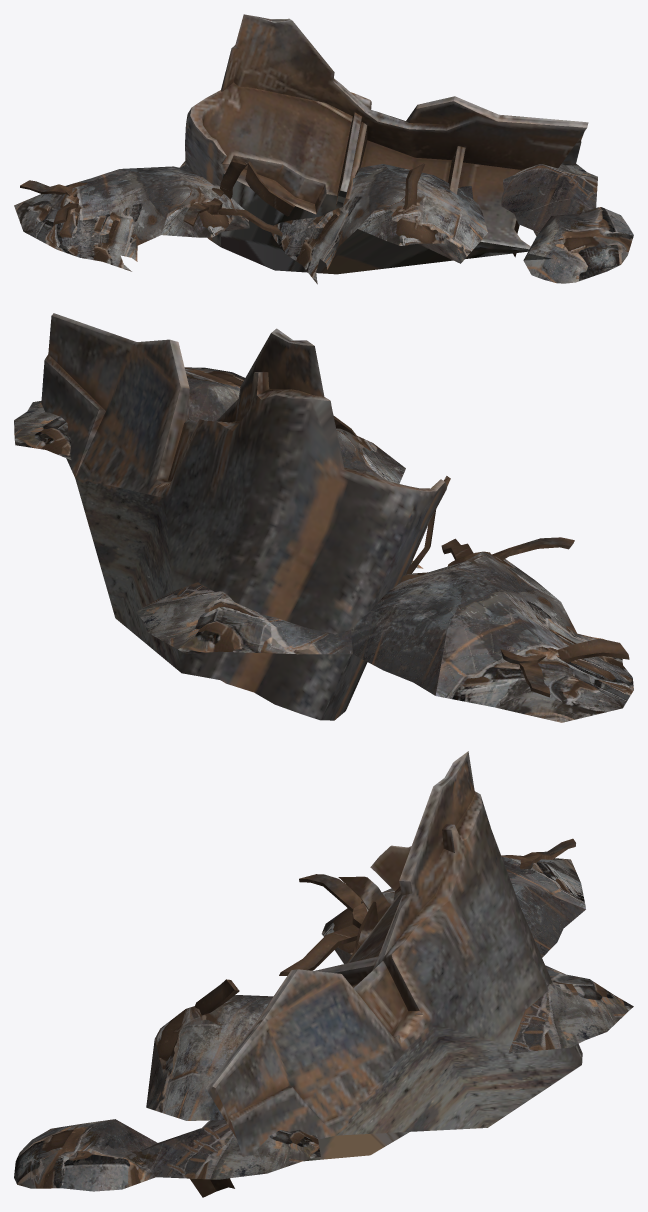
File: plane_wreckage_debris_04.dae
3 views of the same model, one above another, from view 1: azimuth 30°, elevation 25°; view 2: azimuth 150°, elevation 25°; view 3: azimuth 270°, elevation 25° (orthographic). The views are drawn at different scales.
Visible parts, largest first — view 1: pasted__plane_wreckage_wing_teselada1, polySurface48, polySurface49, pasted__polySurface51, pasted__polySurface54, pasted__polySurface53, pasted__polySurface55, pasted__polySurface52; view 2: pasted__plane_wreckage_wing_teselada1, polySurface49, polySurface48, pasted__polySurface53, pasted__polySurface51; view 3: pasted__plane_wreckage_wing_teselada1, polySurface48, polySurface49, pasted__polySurface51, pasted__polySurface52, pasted__polySurface55, pasted__polySurface53.
Boxes of the visible parts, box(x1,y1,x2,y2) form: pasted__plane_wreckage_wing_teselada1: box(185, 14, 588, 274); polySurface48: box(271, 164, 633, 284); polySurface49: box(14, 161, 249, 271); pasted__polySurface51: box(183, 184, 282, 236); pasted__polySurface54: box(245, 161, 294, 216); pasted__polySurface53: box(20, 180, 87, 224); pasted__polySurface55: box(403, 163, 425, 209); pasted__polySurface52: box(220, 159, 248, 198); pasted__plane_wreckage_wing_teselada1: box(41, 313, 447, 720); polySurface49: box(136, 552, 633, 722); polySurface48: box(14, 367, 423, 568); pasted__polySurface53: box(500, 638, 629, 697); pasted__polySurface51: box(400, 537, 574, 582); pasted__plane_wreckage_wing_teselada1: box(190, 751, 582, 1197); polySurface48: box(14, 995, 320, 1191); polySurface49: box(321, 855, 633, 1072); pasted__polySurface51: box(279, 874, 367, 975); pasted__polySurface52: box(338, 876, 390, 921); pasted__polySurface55: box(195, 979, 239, 1015); pasted__polySurface53: box(504, 838, 575, 869).
Size of the model in its own units: 276 by 138 by 214.
